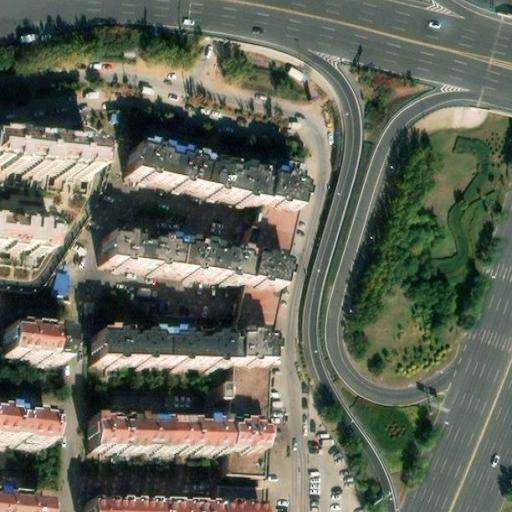building: (228, 203, 299, 478), (127, 146, 303, 213), (98, 239, 282, 292), (92, 334, 264, 370), (89, 417, 225, 456), (0, 140, 98, 183), (5, 331, 70, 365), (0, 219, 58, 257), (0, 411, 53, 447), (224, 422, 264, 457), (220, 484, 264, 512), (0, 493, 51, 512), (86, 505, 218, 512), (218, 507, 260, 512)
